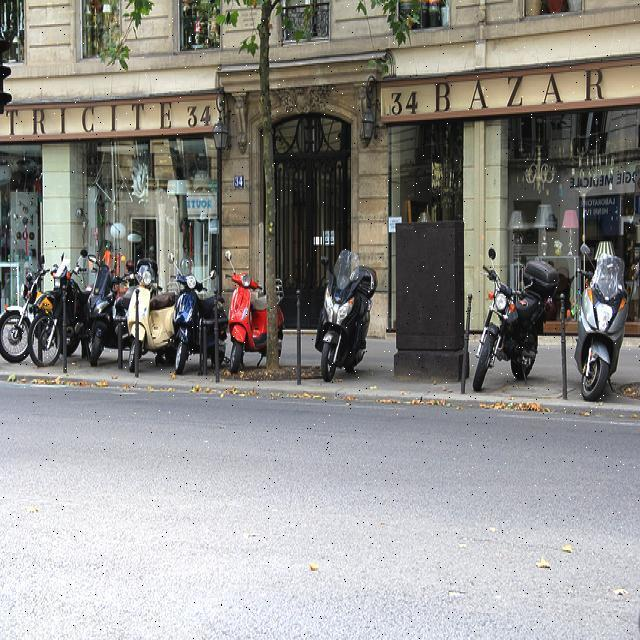motorcycle: (567, 232, 640, 406), (462, 269, 553, 407), (216, 261, 294, 375), (29, 238, 90, 373), (313, 263, 377, 382), (168, 260, 223, 373), (124, 260, 177, 376), (76, 247, 124, 373), (0, 250, 40, 371)
